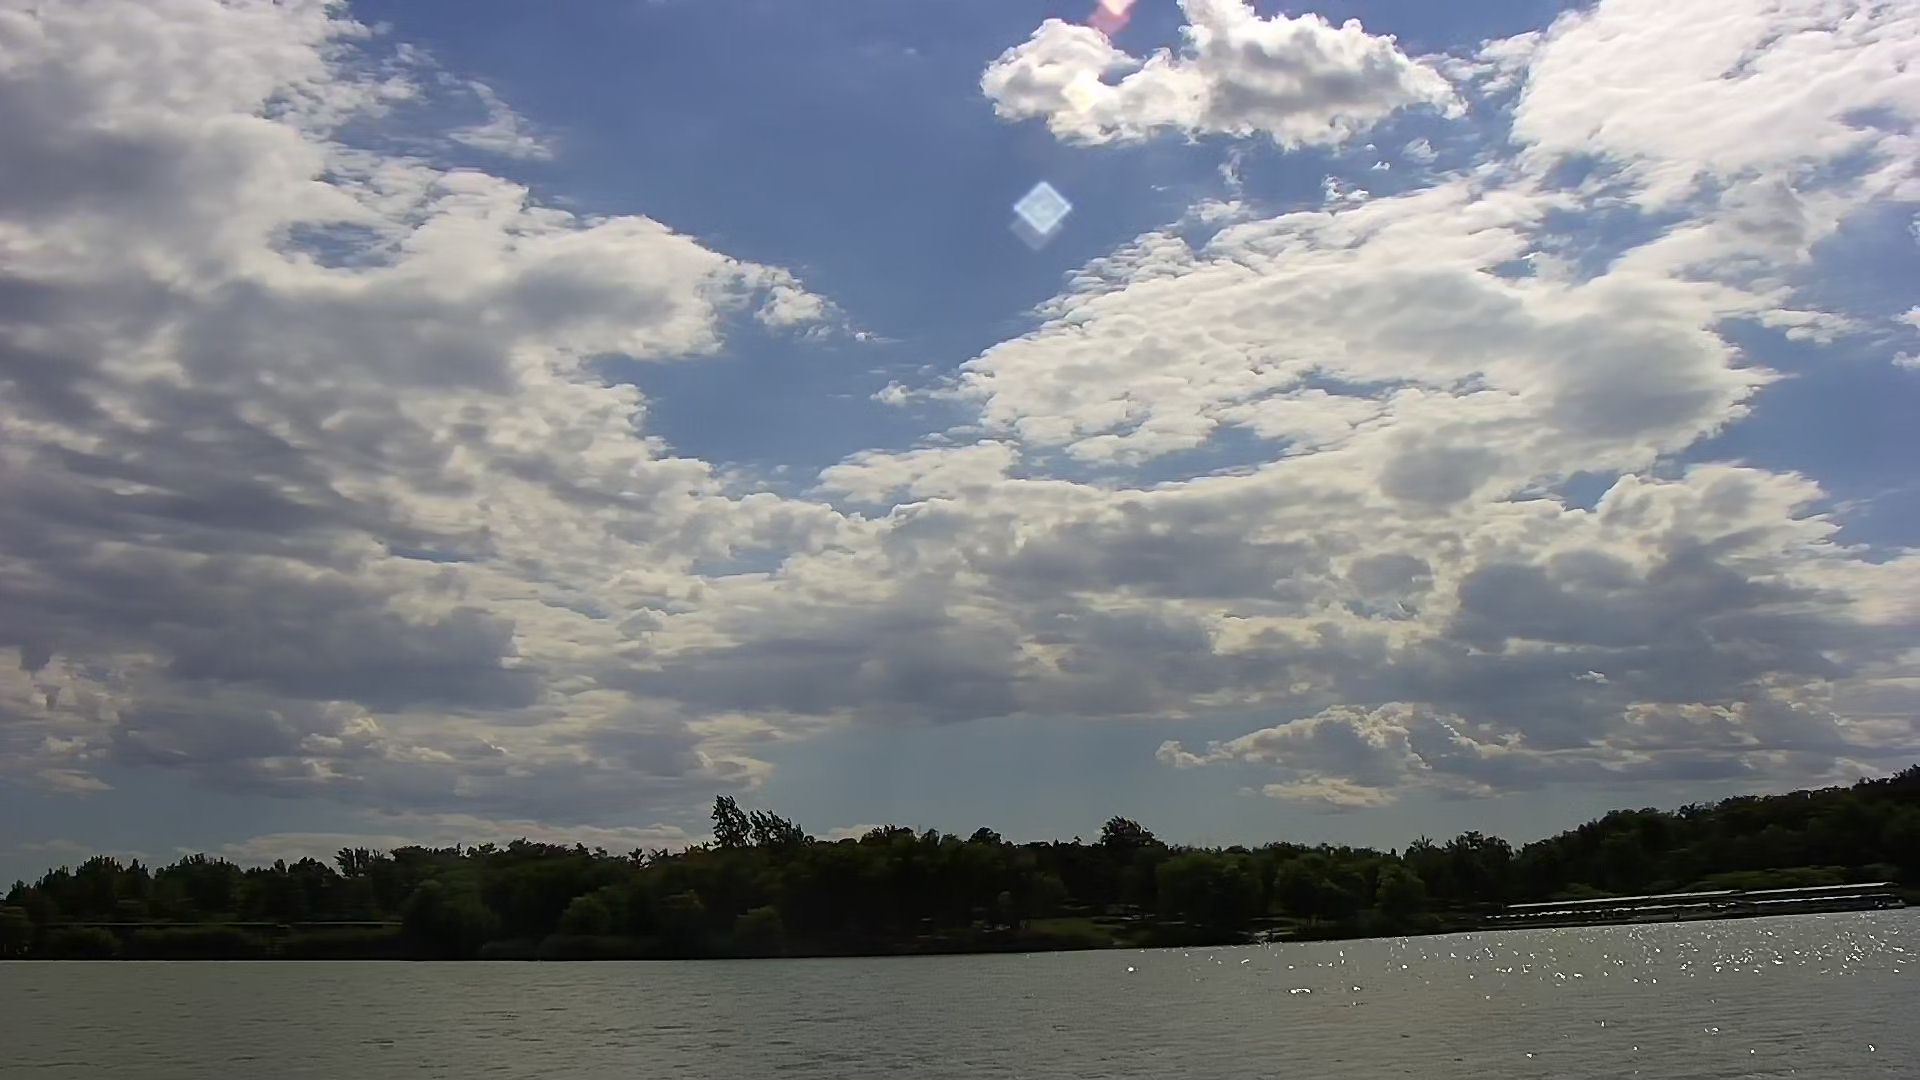harbor: (1484, 862, 1920, 948)
